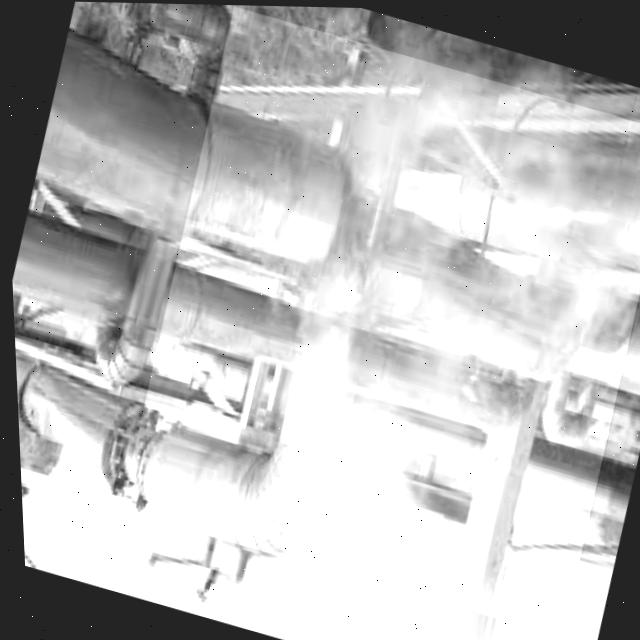corrosion: (120, 6, 640, 637)
